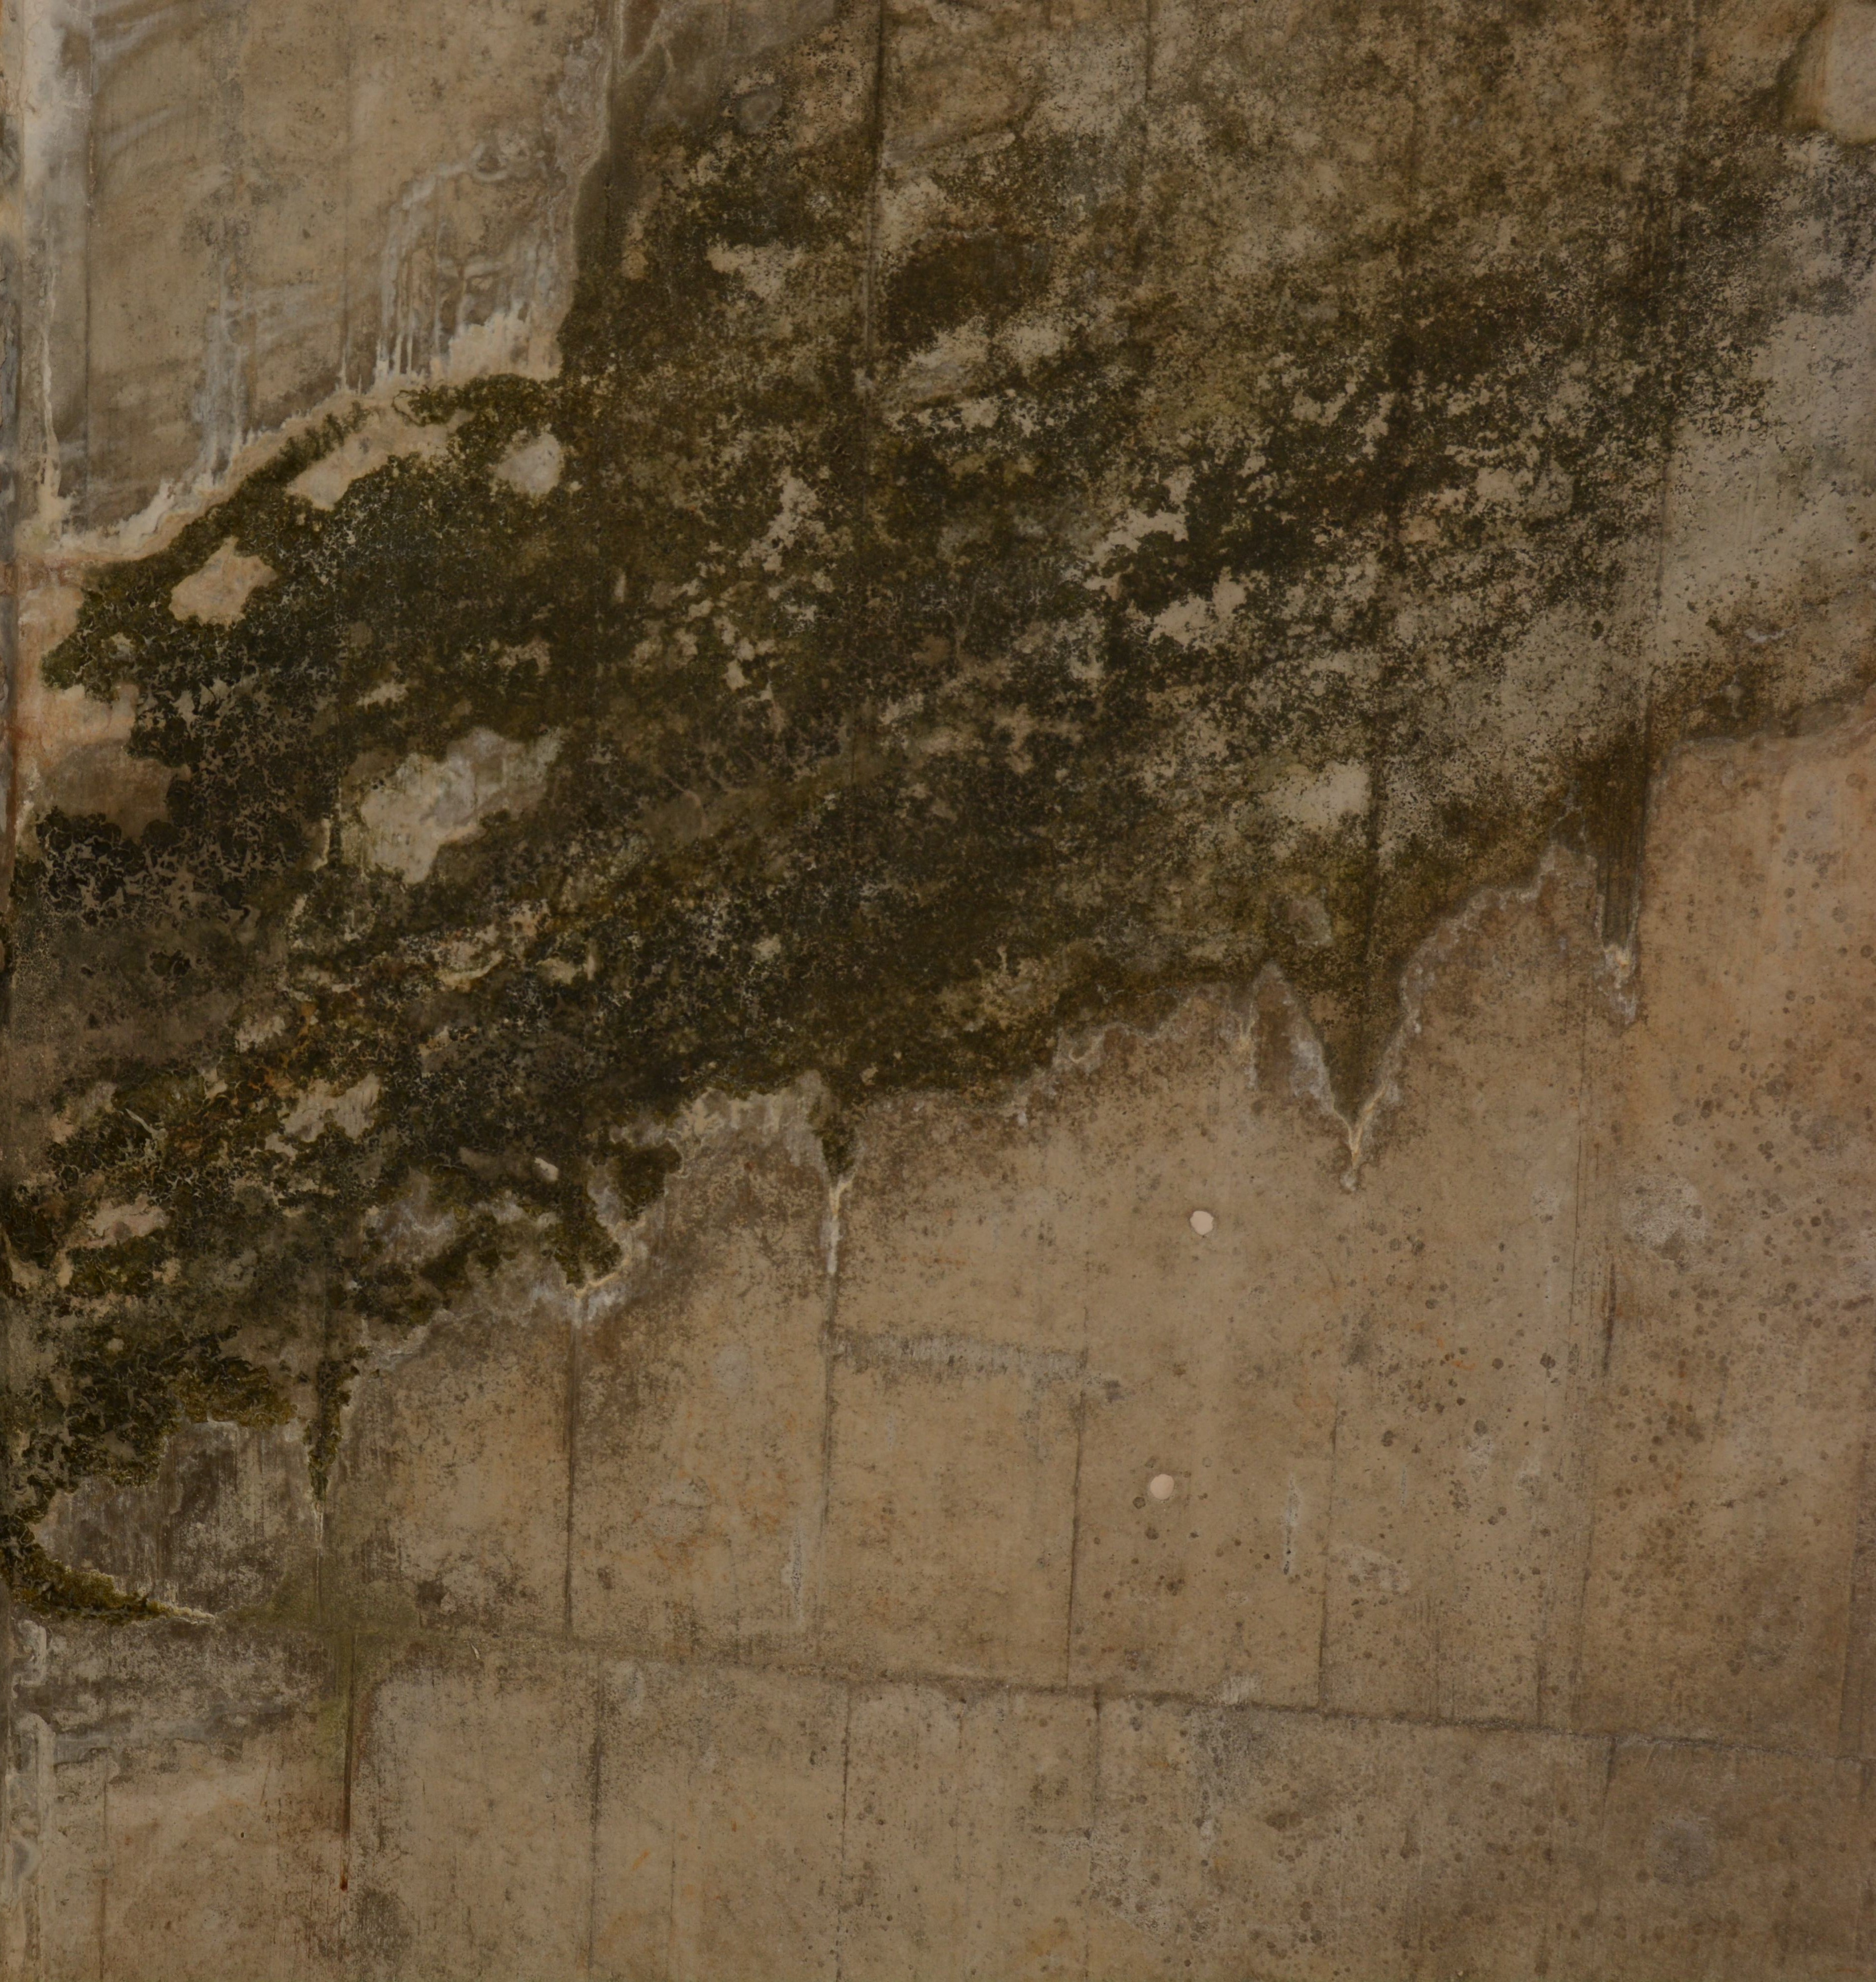Corrosion: (0, 0, 1876, 1631)
